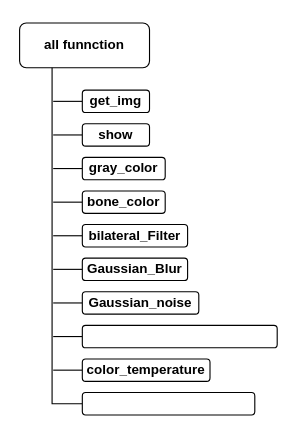
The diagram is 297 pixels wide and 448 high, and some of its shapes have lost their labels. The centre of each missing label's shape, as x and y in pixels:
contrast_and_brightness: pixel 168 403
RGB_histogram_eqqlization: pixel 179 336
